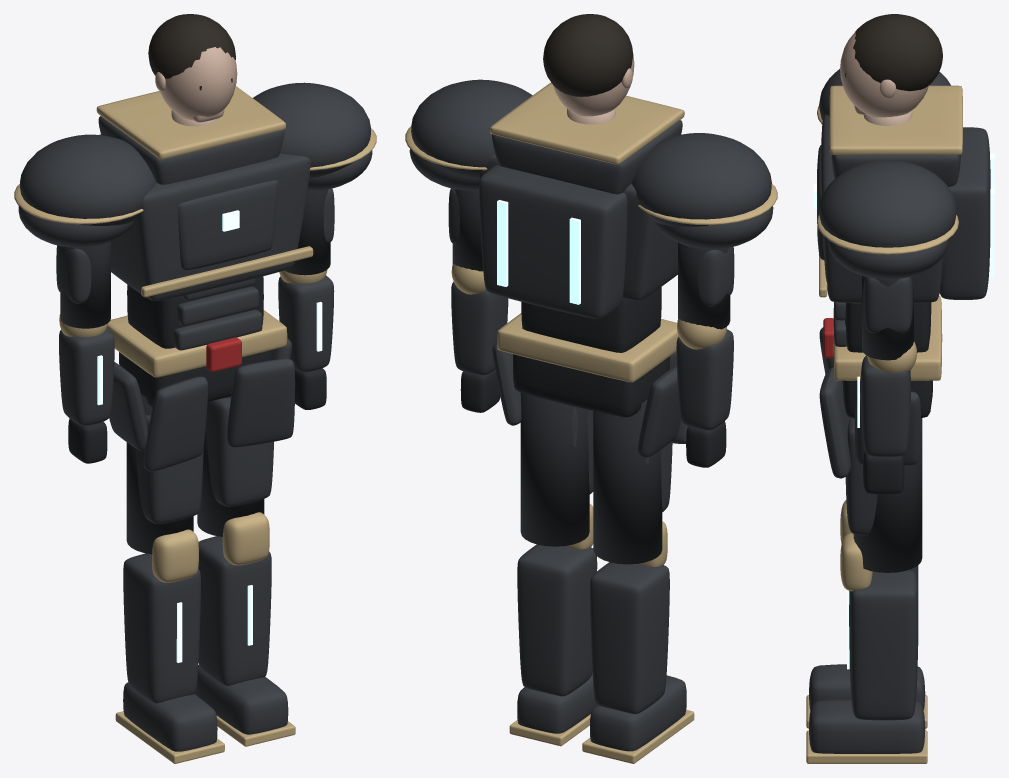
File: hero.glb
3 renders of one model, left to right at view 1: azimuth 30°, elevation 25°; view 2: azimuth 150°, elevation 25°; view 3: azimuth 270°, elevation 25°, orthographic. The views are drawn at different scales.
Visible parts, largest first — view 1: Brustpanzer, Schulter.R, Schienbein.R, Schienbein.L, Schulter.L, Kragenkante, Brustplatte, Beintasche.L, Beintasche.R, Oberschenkelplatte.L, Unterarm.R, Kragen (+28 smaller); view 2: Rueckenmodul, Schienbein.R, Schienbein.L, Schulter.R, Oberschenkel.L, Oberschenkel.R, Kragenkante, Schulter.L, Haar, Guertel, Becken, Bauch (+25 smaller); view 3: Schulter.L, Schienbein.L, Kragenkante, Rueckenmodul, Haar, Oberschenkel.L, Stiefel.L, Unterarm.L, Brustpanzer, Kopf, Schulter2.L, Oberarmplatte.L (+20 smaller).
Boxes of the visible parts, box(x1,y1,x2,y2) form: Brustpanzer: box(111, 153, 310, 301); Schulter.R: box(20, 134, 155, 225); Schienbein.R: box(123, 553, 200, 703); Schienbein.L: box(198, 536, 271, 685); Schulter.L: box(253, 82, 370, 178); Kragenkante: box(96, 86, 285, 159); Brustplatte: box(178, 180, 277, 270); Beintasche.L: box(227, 358, 295, 447); Beintasche.R: box(143, 376, 207, 471); Oberschenkelplatte.L: box(206, 398, 273, 506); Unterarm.R: box(59, 329, 114, 425); Kragen: box(98, 116, 284, 184); Rueckenmodul: box(479, 164, 627, 318); Schienbein.R: box(590, 562, 669, 714); Schienbein.L: box(517, 544, 597, 696); Schulter.R: box(632, 133, 771, 226); Oberschenkel.L: box(520, 392, 589, 546); Oberschenkel.R: box(593, 399, 662, 564); Kragenkante: box(490, 82, 684, 164); Schulter.L: box(411, 79, 532, 178); Haar: box(543, 14, 633, 96); Guertel: box(497, 313, 678, 382); Becken: box(513, 354, 669, 417); Bauch: box(521, 287, 661, 352); Schulter.L: box(819, 160, 956, 247); Schienbein.L: box(849, 570, 918, 720); Kragenkante: box(829, 85, 962, 154); Rueckenmodul: box(939, 127, 990, 299); Haar: box(853, 14, 942, 91); Oberschenkel.L: box(853, 418, 922, 572); Stiefel.L: box(809, 699, 925, 753); Unterarm.L: box(860, 355, 910, 457); Brustpanzer: box(821, 114, 943, 303); Kopf: box(840, 32, 928, 117); Schulter2.L: box(827, 239, 948, 279); Oberarmplatte.L: box(863, 277, 912, 333).
Size of the model in its own units: 0.9757 by 1.89 by 0.45.
